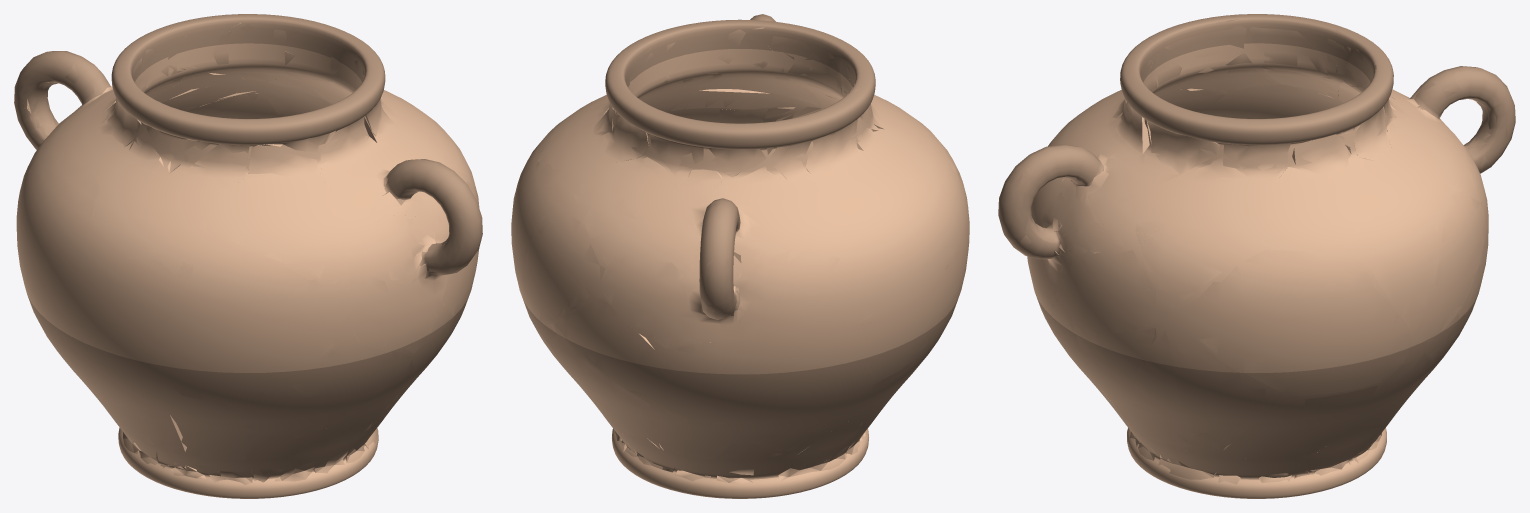
File: Broken Pot.fbx
3 renders of one model, left to right at view 1: azimuth 30°, elevation 25°; view 2: azimuth 150°, elevation 25°; view 3: azimuth 270°, elevation 25°, orthographic.
Parts seen in each view (by area): view 1: Pot, Pot_cell.063, Pot_cell.062, Pot_cell.072, Pot_cell.052, Pot_cell.073, Pot_cell.010, Pot_cell.064, Pot_cell.009, Pot_cell.049, Pot_cell.042, Pot_cell.034 (+23 smaller); view 2: Pot, Pot_cell.024, Pot_cell.017, Pot_cell.029, Pot_cell.052, Pot_cell.095, Pot_cell.089, Pot_cell.066, Pot_cell.050, Pot_cell.092, Pot_cell.039, Pot_cell.055 (+25 smaller); view 3: Pot, Pot_cell.083, Pot_cell.082, Pot_cell.014, Pot_cell.076, Pot_cell.089, Pot_cell.005, Pot_cell.029, Pot_cell.001, Pot_cell.092, Pot_cell.067, Pot_cell.087 (+20 smaller).
Part boxes in pixels (x1,y1,x2,y2): Pot: (14,14,478,498); Pot_cell.063: (155,240,343,399); Pot_cell.062: (290,346,411,417); Pot_cell.072: (217,178,354,286); Pot_cell.052: (29,153,99,278); Pot_cell.073: (320,117,391,195); Pot_cell.010: (103,260,193,354); Pot_cell.064: (346,276,403,347); Pot_cell.009: (170,415,252,484); Pot_cell.049: (184,144,249,197); Pot_cell.042: (248,145,317,176); Pot_cell.034: (223,391,338,438); Pot: (512,14,969,498); Pot_cell.024: (601,254,692,348); Pot_cell.017: (736,250,846,337); Pot_cell.029: (522,214,605,320); Pot_cell.052: (843,178,956,321); Pot_cell.095: (555,294,664,397); Pot_cell.089: (512,163,575,275); Pot_cell.066: (573,182,635,265); Pot_cell.050: (544,323,649,416); Pot_cell.092: (805,119,858,179); Pot_cell.039: (670,89,804,111); Pot_cell.055: (640,410,730,459); Pot: (999,14,1515,498); Pot_cell.083: (1177,250,1412,395); Pot_cell.082: (1135,157,1259,309); Pot_cell.014: (1055,250,1169,334); Pot_cell.076: (1223,385,1378,459); Pot_cell.089: (1356,187,1439,328); Pot_cell.005: (1171,321,1265,448); Pot_cell.029: (1413,193,1484,348); Pot_cell.001: (1261,167,1352,249); Pot_cell.092: (1249,27,1336,95); Pot_cell.067: (1132,330,1194,439); Pot_cell.087: (1062,327,1156,399).
Bounding box in the file's own units: 31.85 × 28.66 × 35.55.
